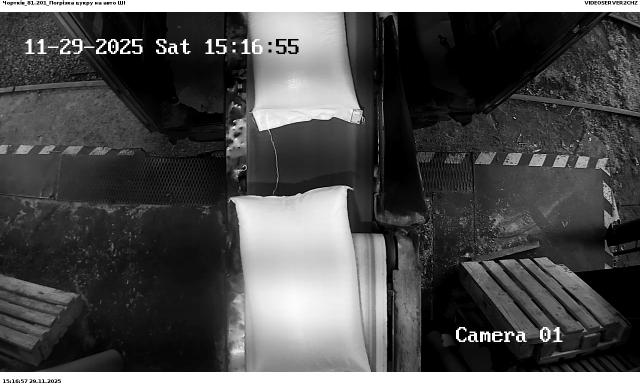bag: (230, 185, 374, 372), (250, 12, 363, 133)
